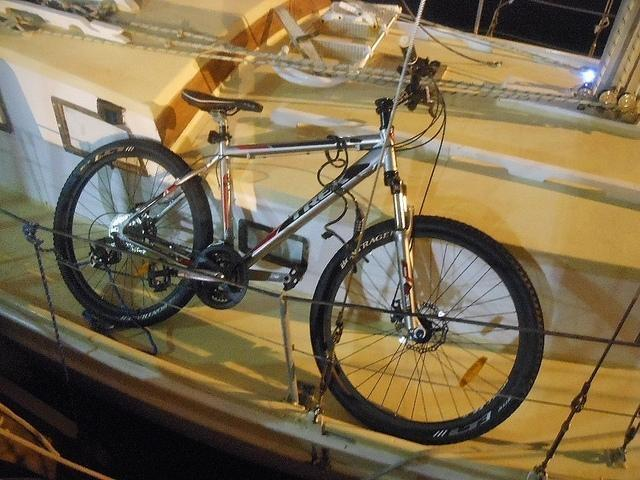bicycle: (53, 39, 544, 449)
